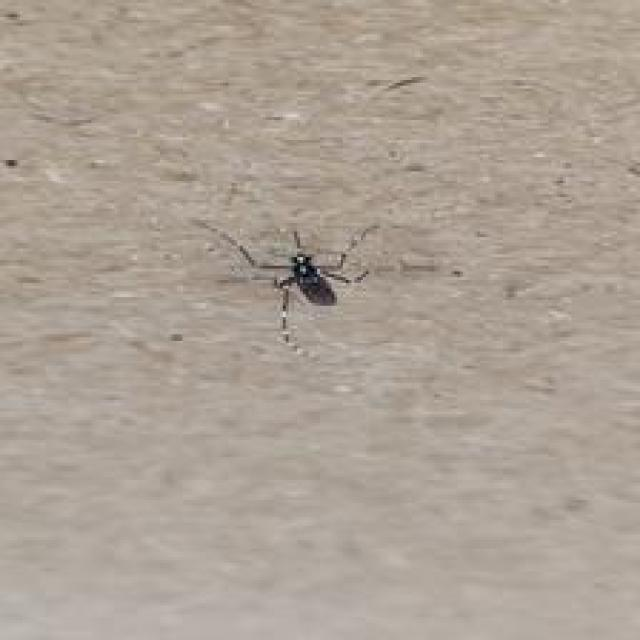Aedes albopictus: (191, 214, 383, 354)
